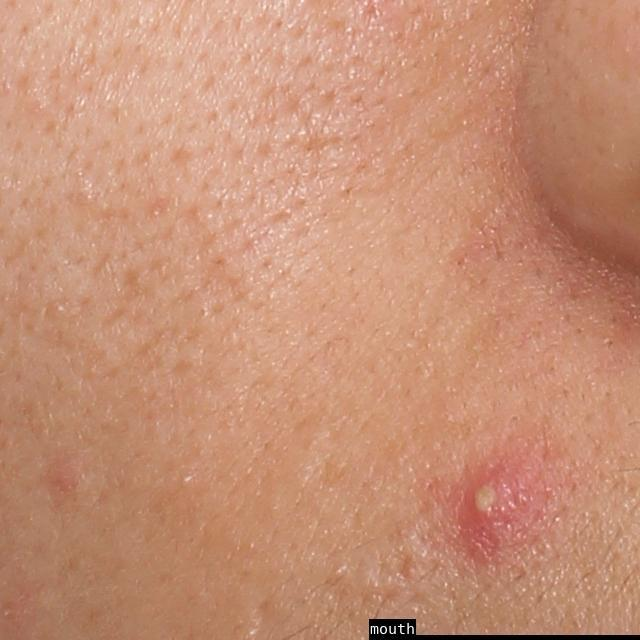atrophic_scar: (243, 594, 276, 640), (397, 546, 417, 582)
papule: (47, 465, 81, 499)
pustule: (454, 451, 544, 553)
